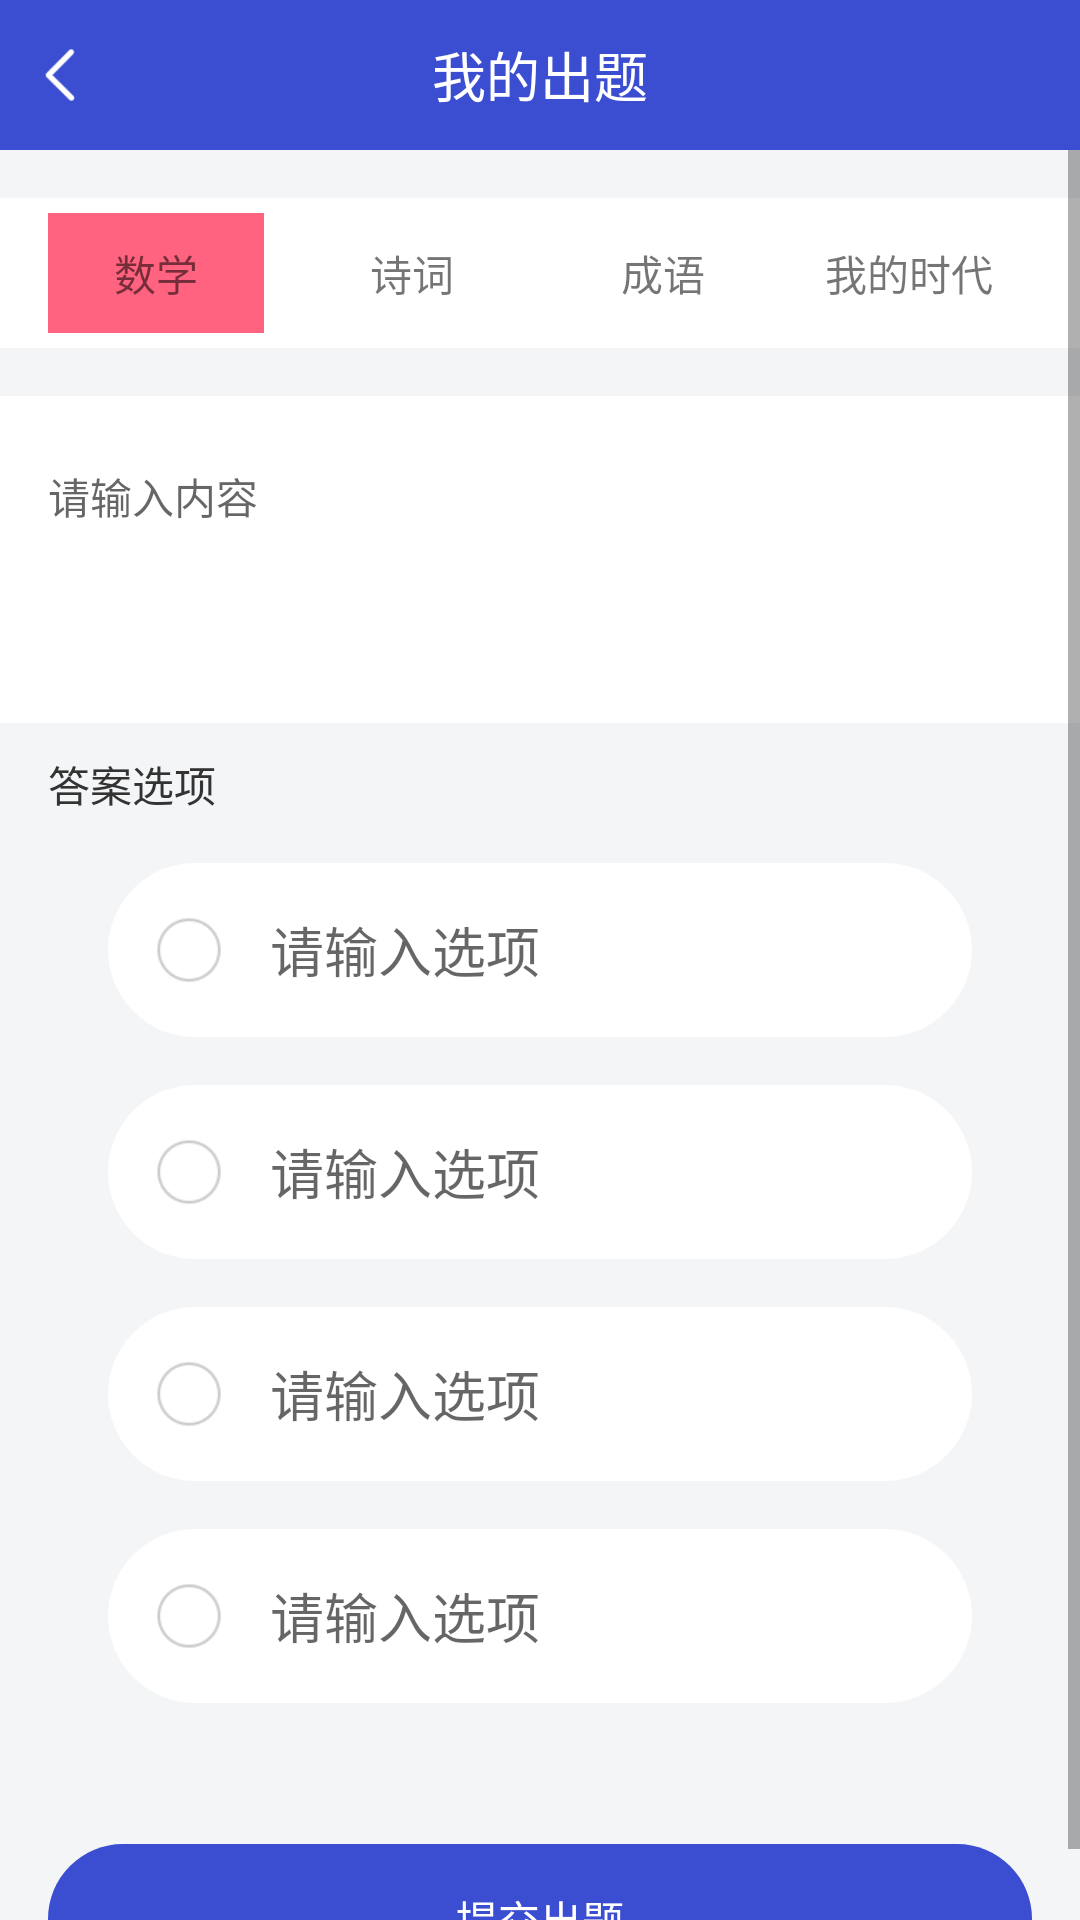

Icons on this 1080×1920 Android screen, each with its box as (x1, y1, x2, y2):
back: (45, 49, 75, 101)
question unselect: (157, 918, 221, 982), (157, 1140, 221, 1204), (157, 1362, 221, 1426), (157, 1584, 221, 1648)
